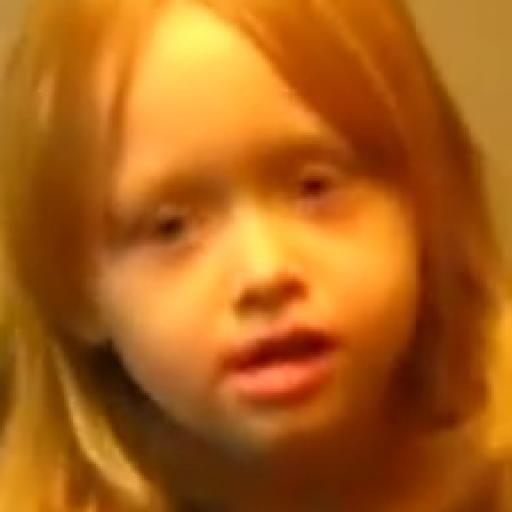Autism: (58, 9, 455, 512)
